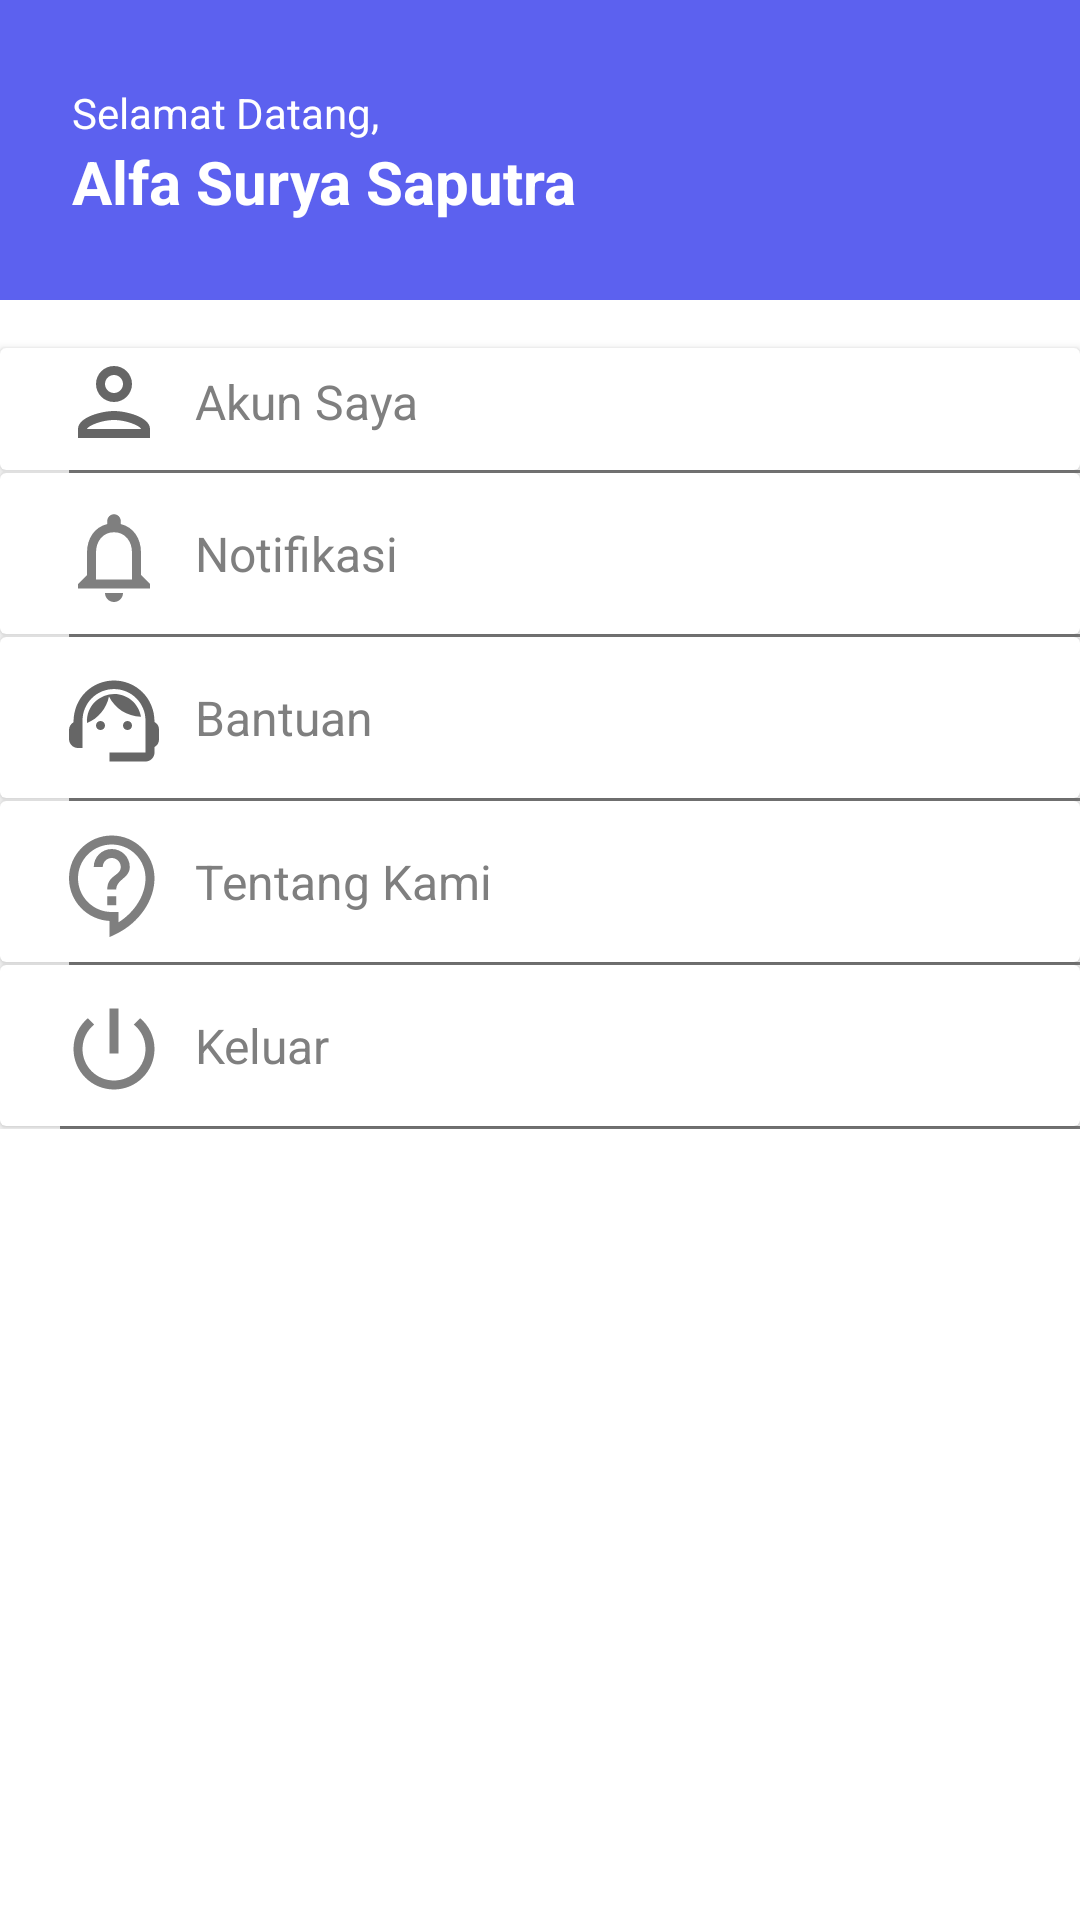

Screen size 1080px x 1920px. Icon name, then its box in pixels as (x1, y1, x2, y2):
person: (78, 366, 150, 438)
